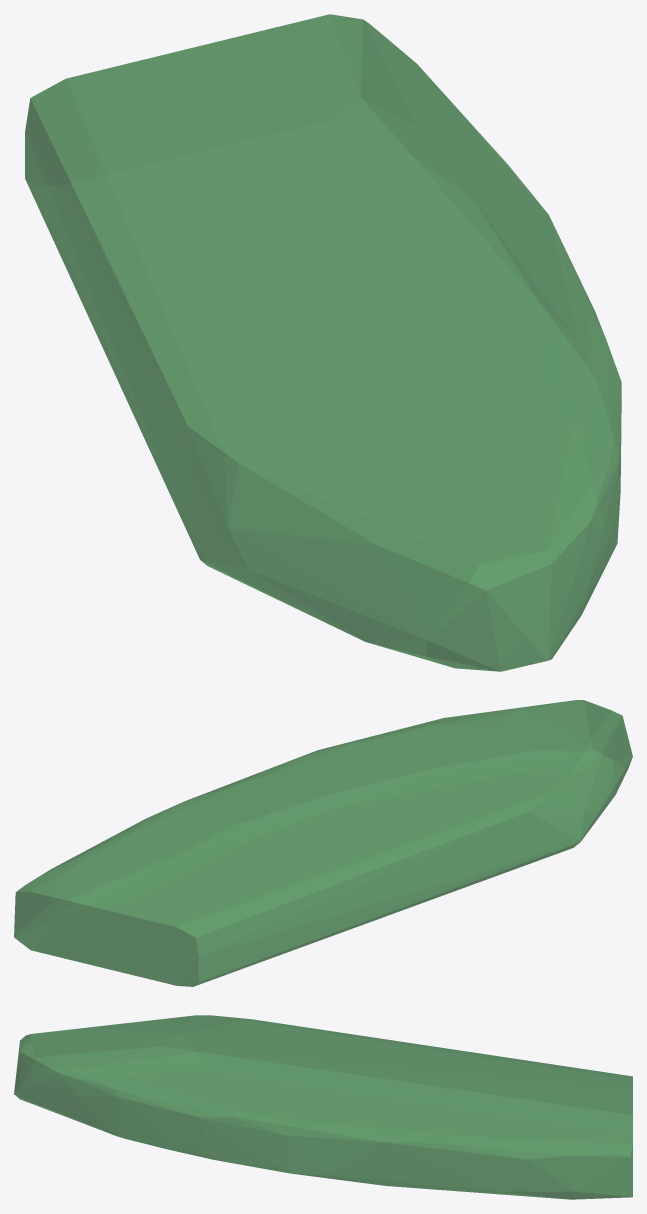
3 renders of one model, top to bottom at view 1: azimuth 30°, elevation 25°; view 2: azimuth 150°, elevation 25°; view 3: azimuth 270°, elevation 25°, orthographic. The views are drawn at different scales.
Visible parts, largest first — view 1: Shape_IndexedFaceSet.003_Shape_IndexedFaceSet.6754; view 2: Shape_IndexedFaceSet.003_Shape_IndexedFaceSet.6754; view 3: Shape_IndexedFaceSet.003_Shape_IndexedFaceSet.6754.
Boxes of the visible parts, x1,y1,x2,y2 form: Shape_IndexedFaceSet.003_Shape_IndexedFaceSet.6754: (25,14,621,671); Shape_IndexedFaceSet.003_Shape_IndexedFaceSet.6754: (14,700,632,986); Shape_IndexedFaceSet.003_Shape_IndexedFaceSet.6754: (14,1015,632,1199).
Size of the model in its own units: 0.3027 by 0.0517 by 0.5459.
